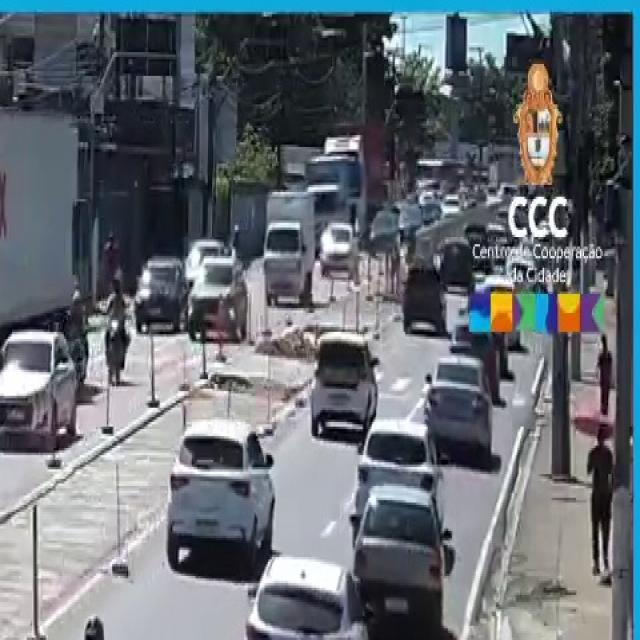biker: (98, 256, 134, 386), (52, 590, 132, 640)
car: (166, 401, 274, 572), (352, 479, 447, 640), (240, 545, 379, 640), (0, 313, 80, 446), (423, 352, 494, 461), (312, 327, 378, 439), (186, 255, 249, 341), (132, 256, 187, 329), (318, 219, 361, 281), (0, 630, 20, 640)
people: (579, 415, 613, 584)
truck: (0, 100, 83, 446), (259, 185, 317, 312)
